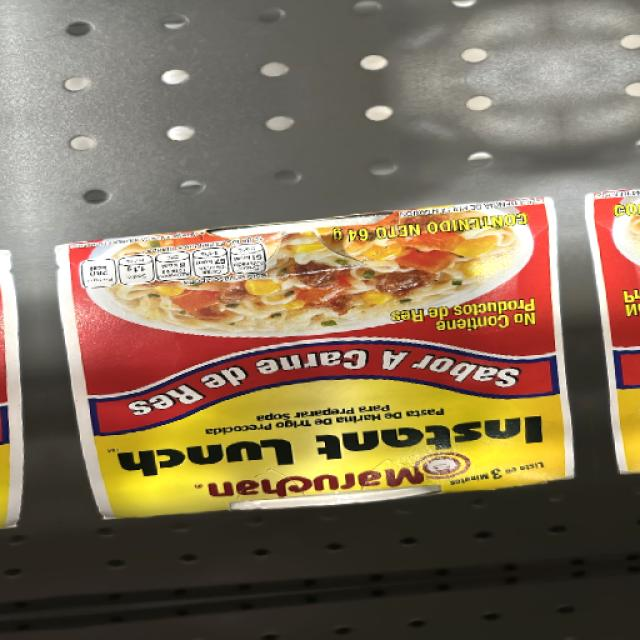maruchanRes: (76, 238, 551, 496)
